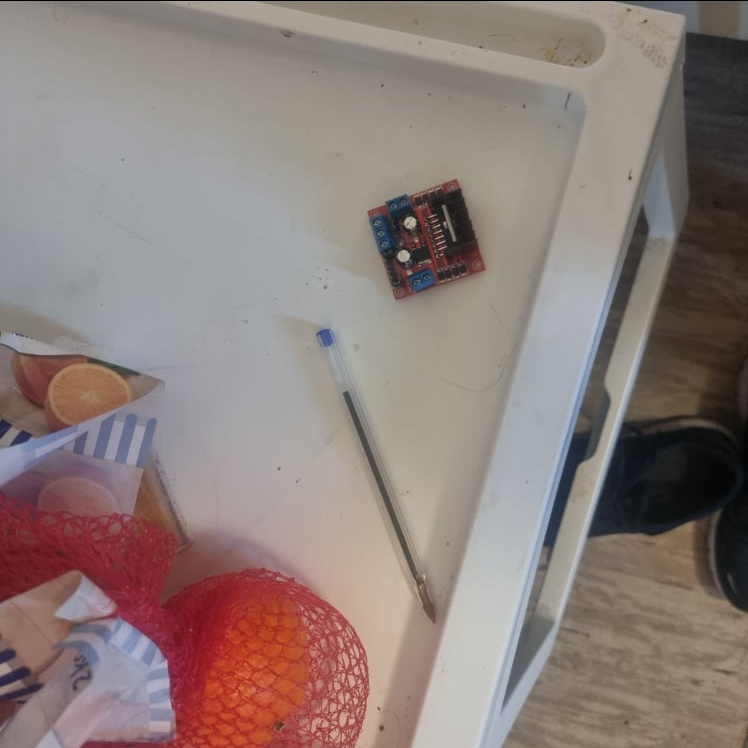MOTOR: (365, 172, 488, 301)
